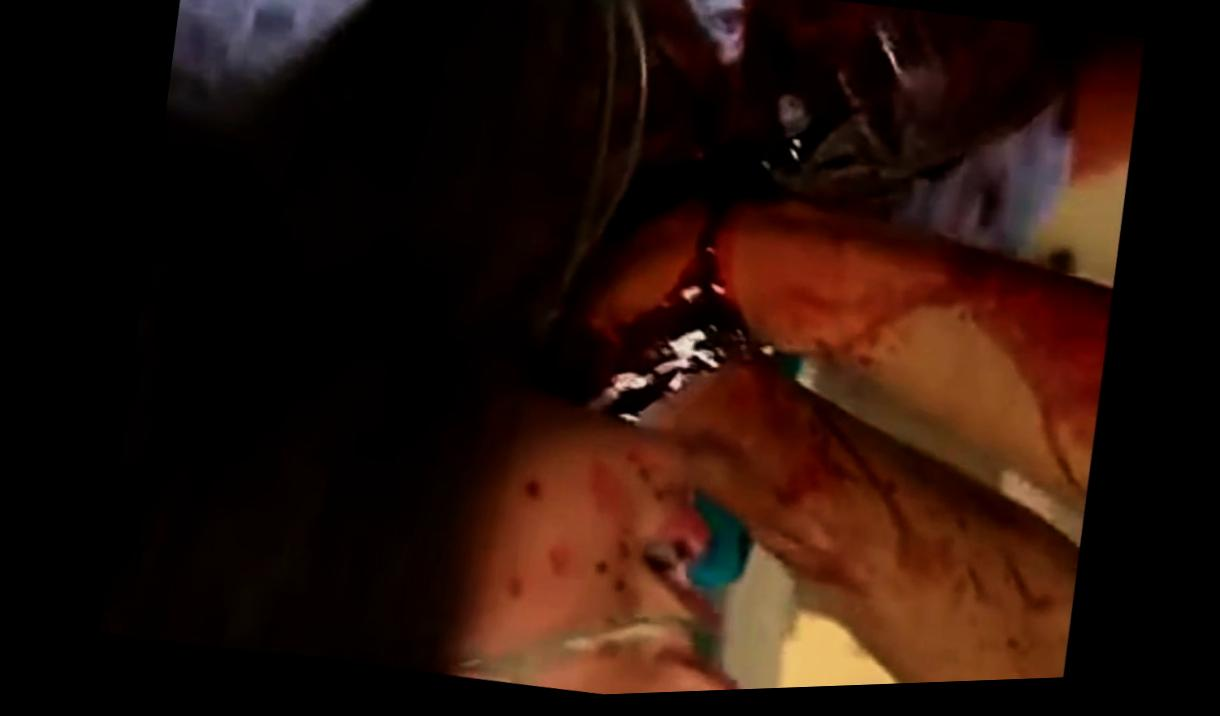Fire: (470, 0, 1143, 690)
